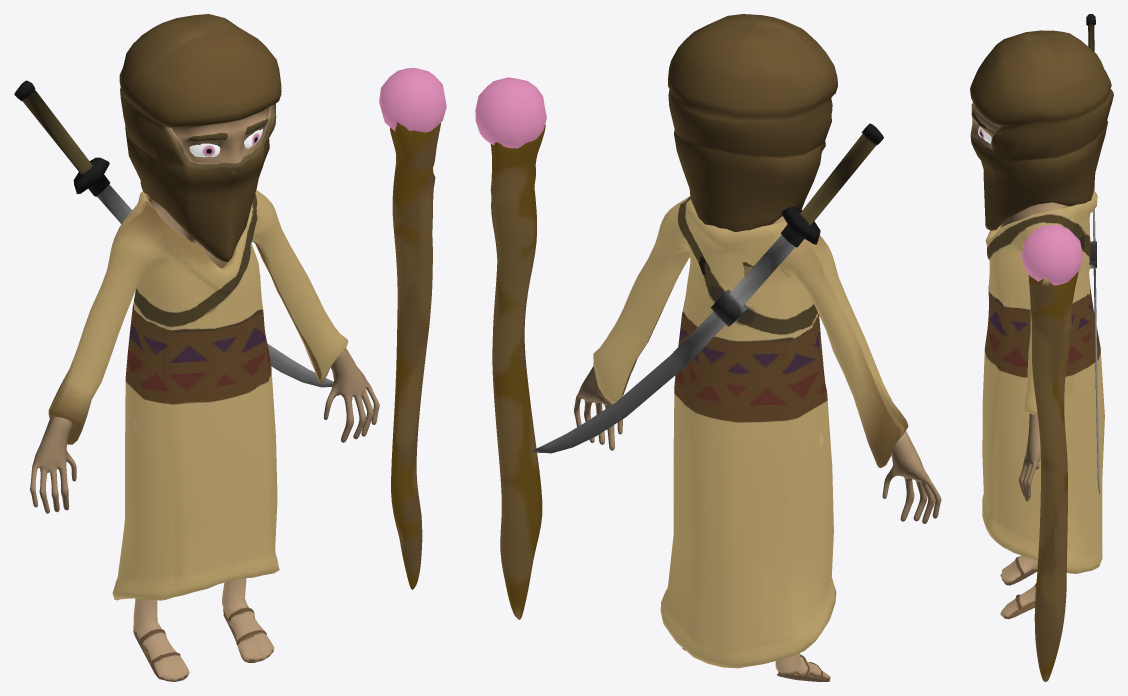
Rendered from timeline.glb.
3 views of the same model, side by side, from view 1: azimuth 30°, elevation 25°; view 2: azimuth 150°, elevation 25°; view 3: azimuth 270°, elevation 25° (orthographic). The views are drawn at different scales.
Parts seen in each view (by area): view 1: Object_5, Object_4, Object_3, Object_2; view 2: Object_5, Object_4, Object_2, Object_3; view 3: Object_5, Object_4, Object_2, Object_3.
Boxes of the visible parts, x1=… form: Object_5: x1=48, y1=68, x2=446, y2=681; Object_4: x1=119, y1=14, x2=281, y2=268; Object_3: x1=30, y1=348, x2=379, y2=513; Object_2: x1=14, y1=80, x2=333, y2=387; Object_5: x1=475, y1=77, x2=908, y2=681; Object_4: x1=668, y1=14, x2=837, y2=275; Object_2: x1=530, y1=123, x2=883, y2=453; Object_3: x1=574, y1=366, x2=941, y2=523; Object_5: x1=978, y1=126, x2=1104, y2=681; Object_4: x1=970, y1=30, x2=1113, y2=249; Object_2: x1=1086, y1=14, x2=1099, y2=494; Object_3: x1=1018, y1=413, x2=1040, y2=501.
Bounding box in the file's own units: 1.27 × 1.8 × 0.4203.
Materials: 4 (4 with a texture image).
